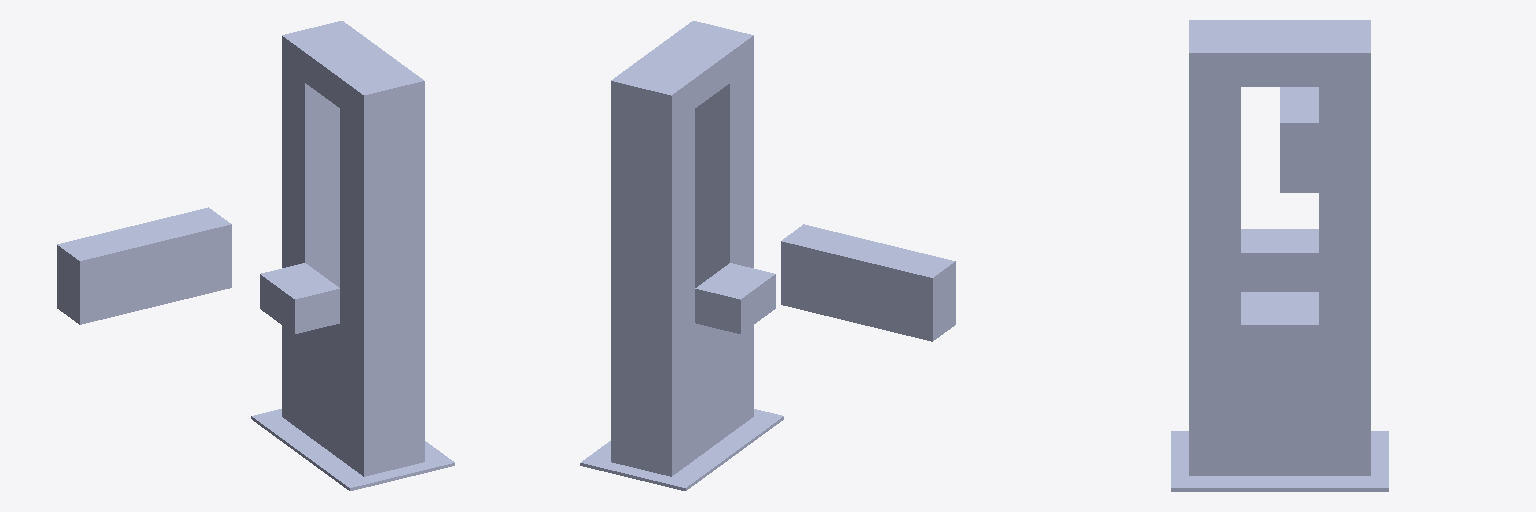
URDF robot description (switch):
<?xml version="1.0" encoding="utf-8"?>
<!-- This URDF was automatically created by SolidWorks to URDF Exporter! Originally created by [author] ([email redacted]) 
     Commit Version: 1.6.0-4-g7f85cfe  Build Version: 1.6.7995.38578
     For more information, please see http://wiki.ros.org/sw_urdf_exporter -->
<robot
  name="switch">
  <link
    name="base_link">
    <inertial>
      <origin
        xyz="-0.0063402 -0.10189 -6.192E-17"
        rpy="0 0 0" />
      <mass
        value="90.964" />
      <inertia
        ixx="14.149"
        ixy="-5.8195E-16"
        ixz="-1.2902E-16"
        iyy="2.3598"
        iyz="1.0374E-15"
        izz="12.412" />
    </inertial>
    <visual>
      <origin
        xyz="0 0 0"
        rpy="0 0 0" />
      <geometry>
        <mesh
          filename="package://switch/meshes/base_link.STL" />
      </geometry>
      <material
        name="">
        <color
          rgba="0.79216 0.81961 0.93333 1" />
      </material>
    </visual>
    <collision>
      <origin
        xyz="0 0 0"
        rpy="0 0 0" />
      <geometry>
        <mesh
          filename="package://switch/meshes/base_link.STL" />
      </geometry>
    </collision>
  </link>
  <link
    name="switch_link">
    <inertial>
      <origin
        xyz="0.25 -0.065703 -2.5956E-16"
        rpy="0 0 0" />
      <mass
        value="13.17" />
      <inertia
        ixx="0.06305"
        ixy="0"
        ixz="0"
        iyy="0.31848"
        iyz="-3.0291E-18"
        izz="0.29333" />
    </inertial>
    <visual>
      <origin
        xyz="0 0 0"
        rpy="0 0 0" />
      <geometry>
        <mesh
          filename="package://switch/meshes/switch_link.STL" />
      </geometry>
      <material
        name="">
        <color
          rgba="0.79216 0.81961 0.93333 1" />
      </material>
    </visual>
    <collision>
      <origin
        xyz="0 0 0"
        rpy="0 0 0" />
      <geometry>
        <mesh
          filename="package://switch/meshes/switch_link.STL" />
      </geometry>
    </collision>
  </link>
  <joint
    name="switch_link_joint"
    type="prismatic">
    <origin
      xyz="-0.4 0 0.03487"
      rpy="1.5708 0 0" />
    <parent
      link="base_link" />
    <child
      link="switch_link" />
    <axis
      xyz="0 0 1" />
    <limit
      lower="-0.43452"
      upper="0"
      effort="0"
      velocity="0" />
    <dynamics
      damping="0.001"
      friction="0.1" />
  </joint>
</robot>

--- Render facts (derived) ---
Views: 3 orthographic renders of the robot side by side, from view 1: azimuth 30°, elevation 25°; view 2: azimuth 150°, elevation 25°; view 3: azimuth 270°, elevation 25°.
Model switch with 2 links and 1 joints (1 prismatic), rooted at base_link, posed every joint at zero.
Links seen in each view (by area): view 1: base_link, switch_link; view 2: base_link, switch_link; view 3: base_link, switch_link.
Link boxes in pixels (left/top/right/bottom): base_link: left=251, top=21, right=454, bottom=490; switch_link: left=57, top=207, right=231, bottom=324; base_link: left=580, top=21, right=783, bottom=490; switch_link: left=781, top=224, right=955, bottom=341; base_link: left=1171, top=20, right=1388, bottom=491; switch_link: left=1280, top=87, right=1318, bottom=192.
Bounding box of the posed robot: 1.07 × 0.563 × 1.21 m (x, y, z).
Meshes: 2 distinct files referenced, 2 mesh visuals loaded (2 binary STL).